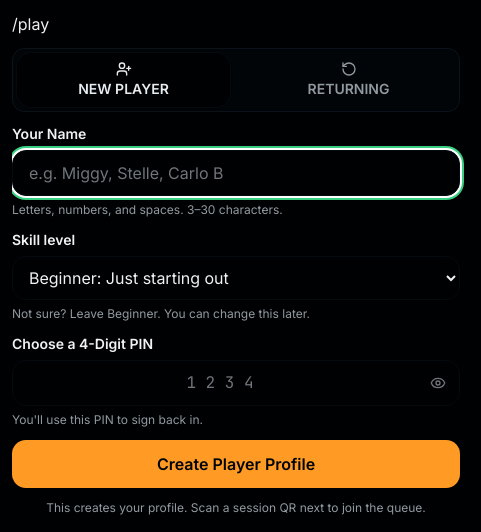
Test: LoginForm › LF-6b: a PIN-only reconnect error focuses the PIN, not the valid name
Click the tab "RETURNING" at (348, 80), box 242,53 -> 455,107
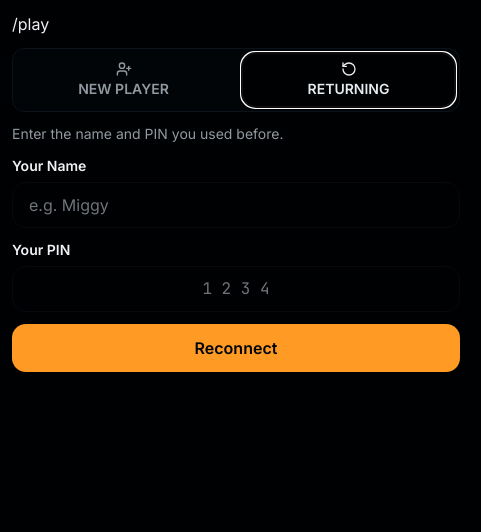
Type "Miggy" into the field labelled "Your Name" at (236, 205), box 12,182 -> 460,228
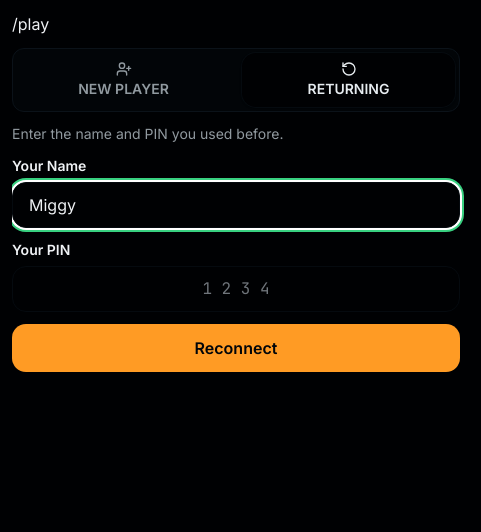
Press Enter
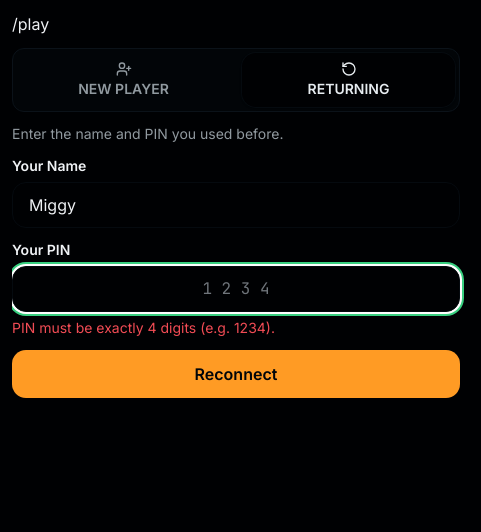
Expected: the text "PIN must be exactly 4 digits (e.g. 1234)." is shown, 12,319 -> 275,336
